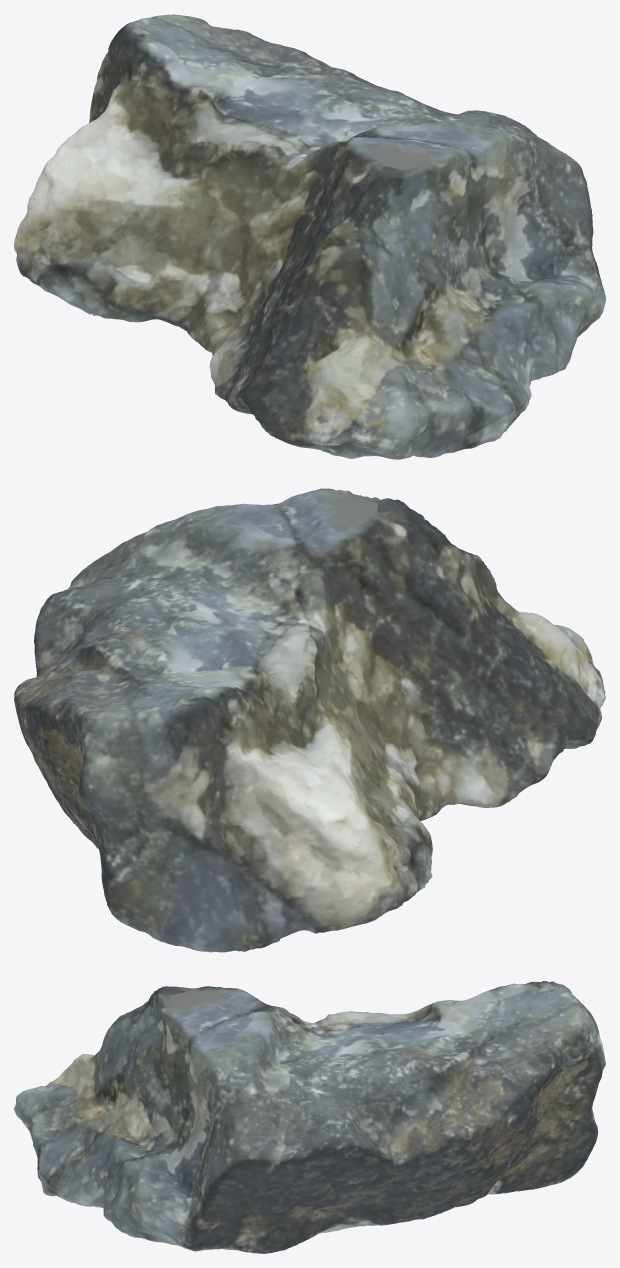
Rendered from iolite.glb.
3 views of the same model, one above another, from view 1: azimuth 30°, elevation 25°; view 2: azimuth 150°, elevation 25°; view 3: azimuth 270°, elevation 25° (orthographic). The views are drawn at different scales.
Visible parts, largest first — view 1: Object_2; view 2: Object_2; view 3: Object_2.
Boxes of the visible parts, x1,y1,x2,y2 form: Object_2: (14,14,605,459); Object_2: (14,488,605,952); Object_2: (14,981,605,1253).
Bounding box in the file's own units: 0.2298 × 0.1191 × 0.3235.
Materials: 1 (1 with a texture image).
